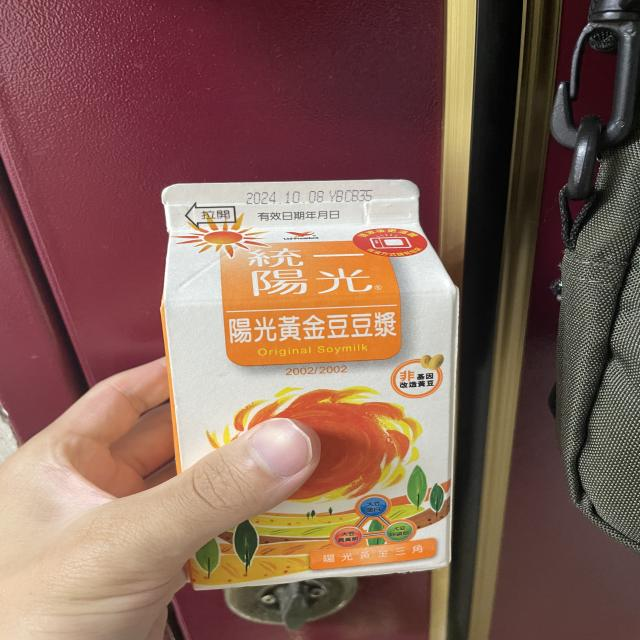TongYi_SoyMilk: (159, 175, 470, 593)
